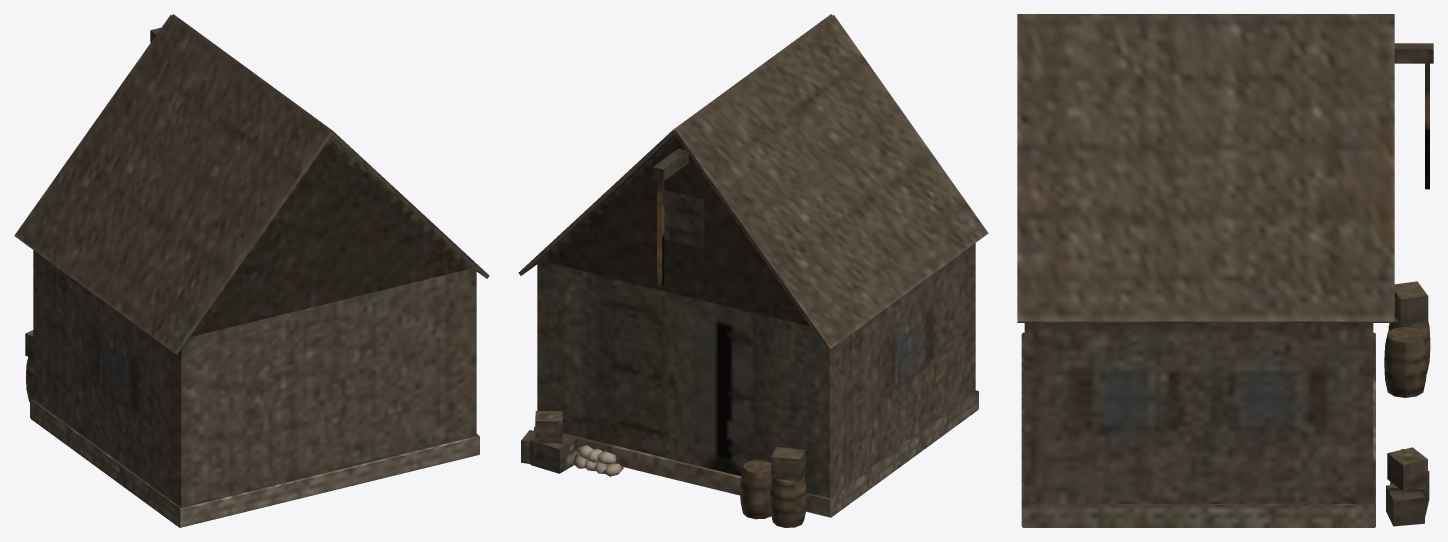
File: b_storehouse_far.glb
The picture shows the model from 3 angles, left to right: view 1: azimuth 30°, elevation 25°; view 2: azimuth 150°, elevation 25°; view 3: azimuth 270°, elevation 25°; orthographic projection. The views are drawn at different scales.
Visible parts, largest first — view 1: b_storehouse_far; view 2: b_storehouse_far; view 3: b_storehouse_far.
Part boxes in pixels (x1,y1,x2,y2): b_storehouse_far: (14,14,489,527); b_storehouse_far: (518,14,988,527); b_storehouse_far: (1017,14,1433,527).
Size of the model in its own units: 5.99 by 6.55 by 5.79.
Materials: 1 (1 with a texture image).
